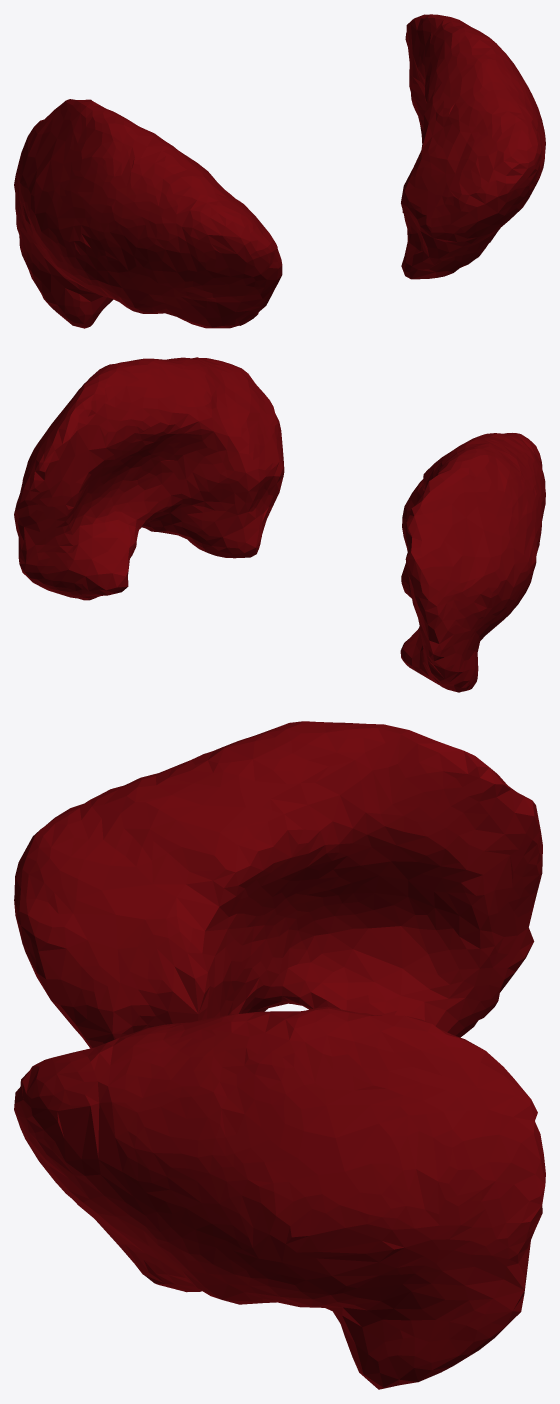
Rendered from 86-Pu-putamen-('0.4980', '0.0000', '0.0353').obj.
3 views of the same model, one above another, from view 1: azimuth 30°, elevation 25°; view 2: azimuth 150°, elevation 25°; view 3: azimuth 270°, elevation 25° (orthographic). The views are drawn at different scales.
Bounding box in the file's own units: 217 × 97.45 × 128.
